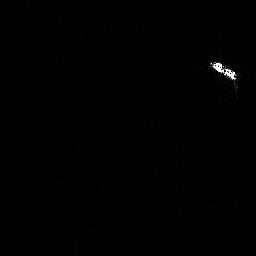ship: (205, 57, 242, 82)
